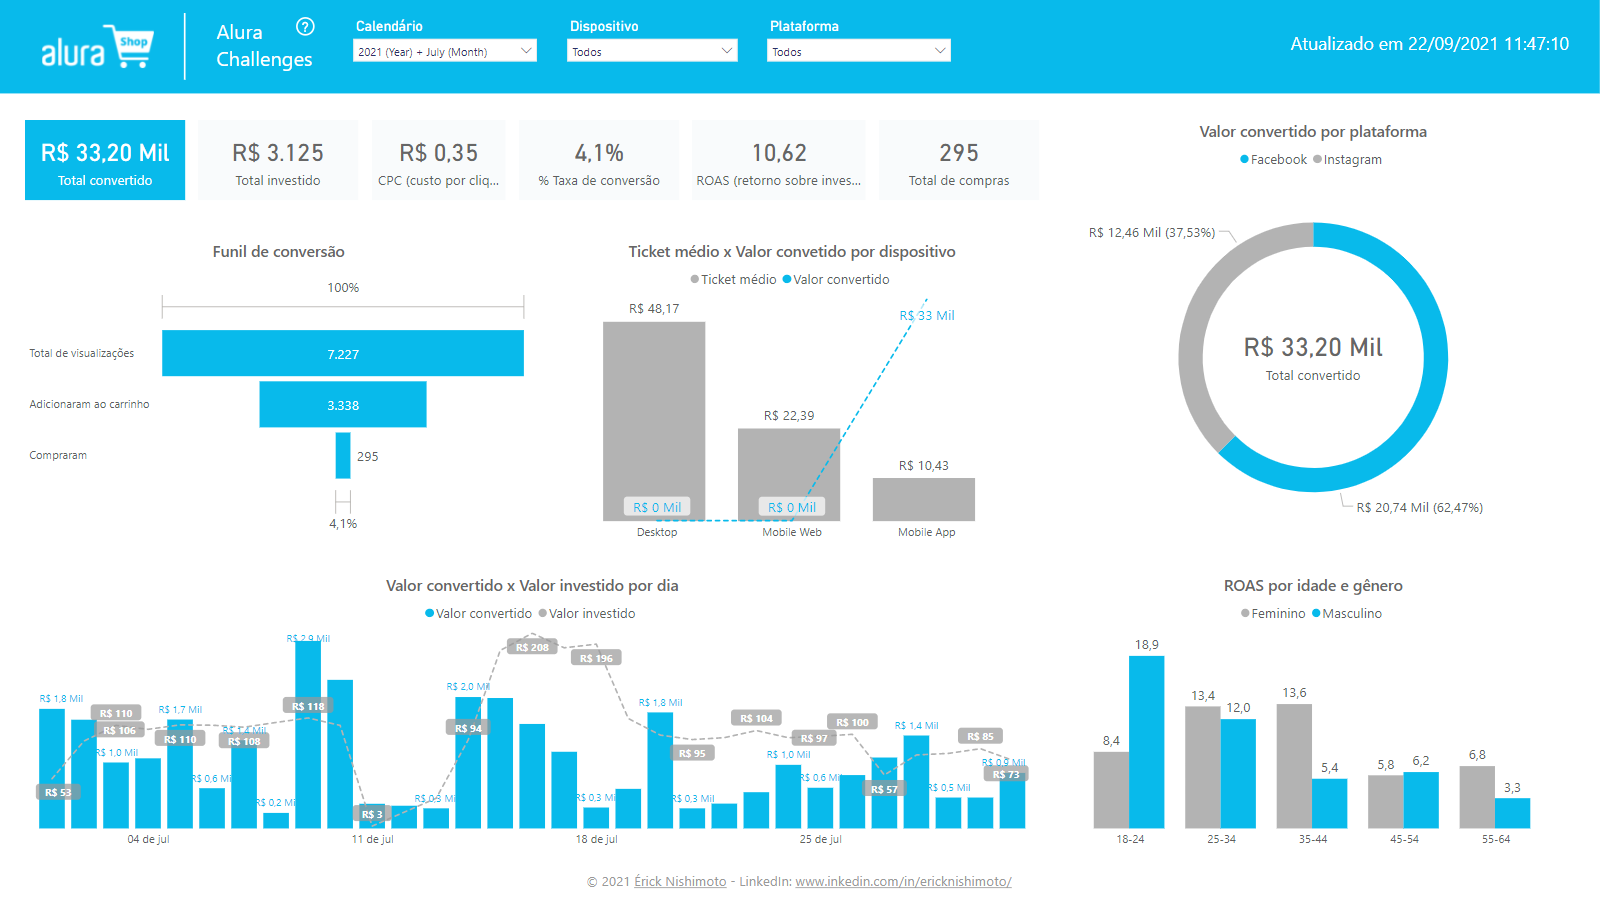

This screenshot's page, from the dashboard's own definition file:
{"tool":"powerbi","page":{"name":"Principal","canvas":[1920,1080],"ordinal":0},"visuals":[{"type":"shape","box":[0,0,1920,112],"z":0},{"type":"slicer","title":"slc_uf","fields":{"Values":["Tabela_dispositivos.Plataforma do dispositivo"]},"box":[448,16,224,80],"z":1000},{"type":"slicer","title":"slc_categoria","fields":{"Values":["Tabela_dispositivos.Plataforma"]},"box":[688,16,240,96],"z":2000},{"type":"textbox","title":"footer","box":[640,1040,640,32],"z":3000},{"type":"card","fields":{"Values":["#medidas.Total de compras"]},"box":[1056,144,192,96],"z":16000},{"type":"card","fields":{"Values":["#medidas.Valor investido"]},"box":[240,144,192,96],"z":17000},{"type":"lineStackedColumnComboChart","title":"Valor convertido x Valor investido por dia","fields":{"Y2":["#medidas.Valor investido"],"Category":["d_calendario.ano Hierarchy.Data"],"Y":["#medidas.Faturamento"]},"box":[32,688,1216,336],"z":18000},{"type":"card","fields":{"Values":["#medidas.Custo por clique"]},"box":[448,144,160,96],"z":19000},{"type":"funnel","title":"Funil de conversão","fields":{"Y":["Sum(Tabela_dispositivos.Visualizações por página)","Sum(Tabela_dispositivos.Adicionados ao carrinho)","Sum(Tabela_dispositivos.Compras)"]},"box":[32,288,608,368],"z":20000},{"type":"card","fields":{"Values":["#medidas.ROAS"]},"box":[832,144,208,96],"z":21000},{"type":"card","fields":{"Values":["#medidas.% Taxa de conversão"]},"box":[624,144,192,96],"z":22000},{"type":"lineClusteredColumnComboChart","title":"Ticket médio x Faturamento por dispositivo","fields":{"Category":["Tabela_dispositivos.Plataforma do dispositivo"],"Y":["#medidas.Ticket médio"],"Y2":["#medidas.Valor convertido"]},"box":[656,288,592,368],"z":23000},{"type":"textbox","box":[1520,32,368,48],"z":24000},{"type":"donutChart","title":"Valor convertido por plataforma","fields":{"Category":["Tabela_dispositivos.Plataforma"],"Y":["#medidas.Valor convertido"]},"box":[1264,144,624,512],"z":24125},{"type":"card","fields":{"Values":["#medidas.Valor convertido"]},"box":[32,144,192,96],"z":24250},{"type":"card","fields":{"Values":["#medidas.Valor convertido"]},"box":[1456,368,240,112],"z":24500},{"type":"textbox","title":"header_info","box":[256,16,192,80],"z":25000},{"type":"shape","title":"header_detail","box":[192,16,64,80],"z":26000},{"type":"actionButton","title":"btn_info_alura","box":[352,16,32,32],"z":27000},{"type":"clusteredColumnChart","title":"ROAS por idade e gênero","fields":{"Y":["#medidas.ROAS idade/gênero"],"Category":["Tabela_idade_e_genero.Idade"],"Series":["Tabela_idade_e_genero.Gênero"]},"box":[1264,688,624,336],"z":28000},{"type":"image","box":[48,16,144,80],"z":30000}]}

Visuals, with their boxes in screenshot pixels (x1, y1, x2, y2), scaled from the page's 1920x1080 canvas onto the 1600x900 screenshot:
shape: pyautogui.locateOnScreen(0, 0, 1599, 93)
"slc_uf" slicer: pyautogui.locateOnScreen(373, 13, 560, 80)
"slc_categoria" slicer: pyautogui.locateOnScreen(573, 13, 773, 93)
"footer" textbox: pyautogui.locateOnScreen(533, 867, 1067, 893)
card - #medidas.Total de compras: pyautogui.locateOnScreen(880, 120, 1040, 200)
card - #medidas.Valor investido: pyautogui.locateOnScreen(200, 120, 360, 200)
"Valor convertido x Valor investido por dia" lineStackedColumnComboChart: pyautogui.locateOnScreen(27, 573, 1040, 853)
card - #medidas.Custo por clique: pyautogui.locateOnScreen(373, 120, 507, 200)
"Funil de conversão" funnel: pyautogui.locateOnScreen(27, 240, 533, 547)
card - #medidas.ROAS: pyautogui.locateOnScreen(693, 120, 867, 200)
card - #medidas.% Taxa de conversão: pyautogui.locateOnScreen(520, 120, 680, 200)
"Ticket médio x Faturamento por dispositivo" lineClusteredColumnComboChart: pyautogui.locateOnScreen(547, 240, 1040, 547)
textbox: pyautogui.locateOnScreen(1267, 27, 1573, 67)
"Valor convertido por plataforma" donutChart: pyautogui.locateOnScreen(1053, 120, 1573, 547)
card - #medidas.Valor convertido: pyautogui.locateOnScreen(27, 120, 187, 200)
card - #medidas.Valor convertido: pyautogui.locateOnScreen(1213, 307, 1413, 400)
"header_info" textbox: pyautogui.locateOnScreen(213, 13, 373, 80)
"header_detail" shape: pyautogui.locateOnScreen(160, 13, 213, 80)
"btn_info_alura" actionButton: pyautogui.locateOnScreen(293, 13, 320, 40)
"ROAS por idade e gênero" clusteredColumnChart: pyautogui.locateOnScreen(1053, 573, 1573, 853)
image: pyautogui.locateOnScreen(40, 13, 160, 80)
